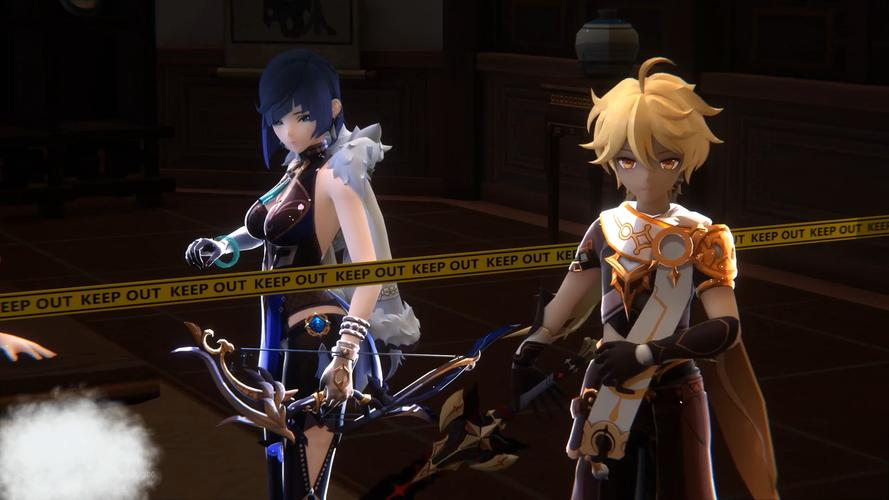夜兰: (192, 41, 383, 497)
